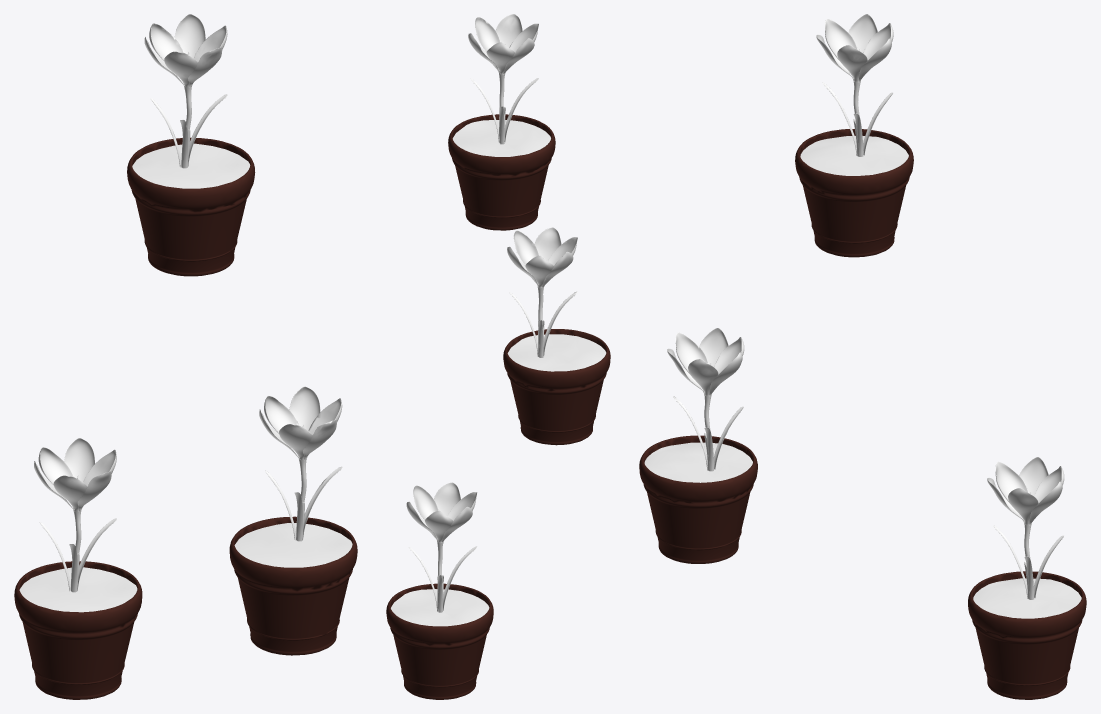
Rendered from Room3-Flower8.glb.
The picture shows the model from 3 angles, left to right: view 1: azimuth 30°, elevation 25°; view 2: azimuth 150°, elevation 25°; view 3: azimuth 270°, elevation 25°; orthographic projection. The views are drawn at different scales.
Parts seen in each view (by area): view 1: Plant_Pot_Soil_Plant_Pot_Soil_M_0.055, Object_2.031; view 2: Plant_Pot_Soil_Plant_Pot_Soil_M_0.055, Object_2.031; view 3: Plant_Pot_Soil_Plant_Pot_Soil_M_0.055, Object_2.031.
Part boxes in pixels (box(x1,y1,x2,y2)): Plant_Pot_Soil_Plant_Pot_Soil_M_0.055: box(14, 137, 357, 699); Object_2.031: box(34, 14, 342, 592); Plant_Pot_Soil_Plant_Pot_Soil_M_0.055: box(386, 114, 610, 699); Object_2.031: box(406, 14, 577, 612); Plant_Pot_Soil_Plant_Pot_Soil_M_0.055: box(639, 129, 1086, 699); Object_2.031: box(667, 14, 1064, 599).
Size of the model in its own units: 2.19 by 10.03 by 6.15.
